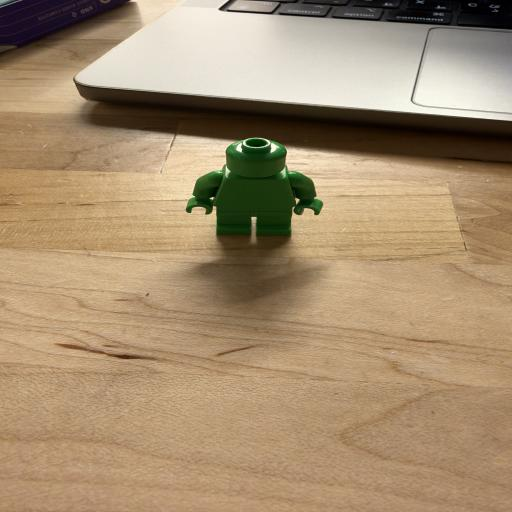green_minifig: (185, 138, 324, 236)
